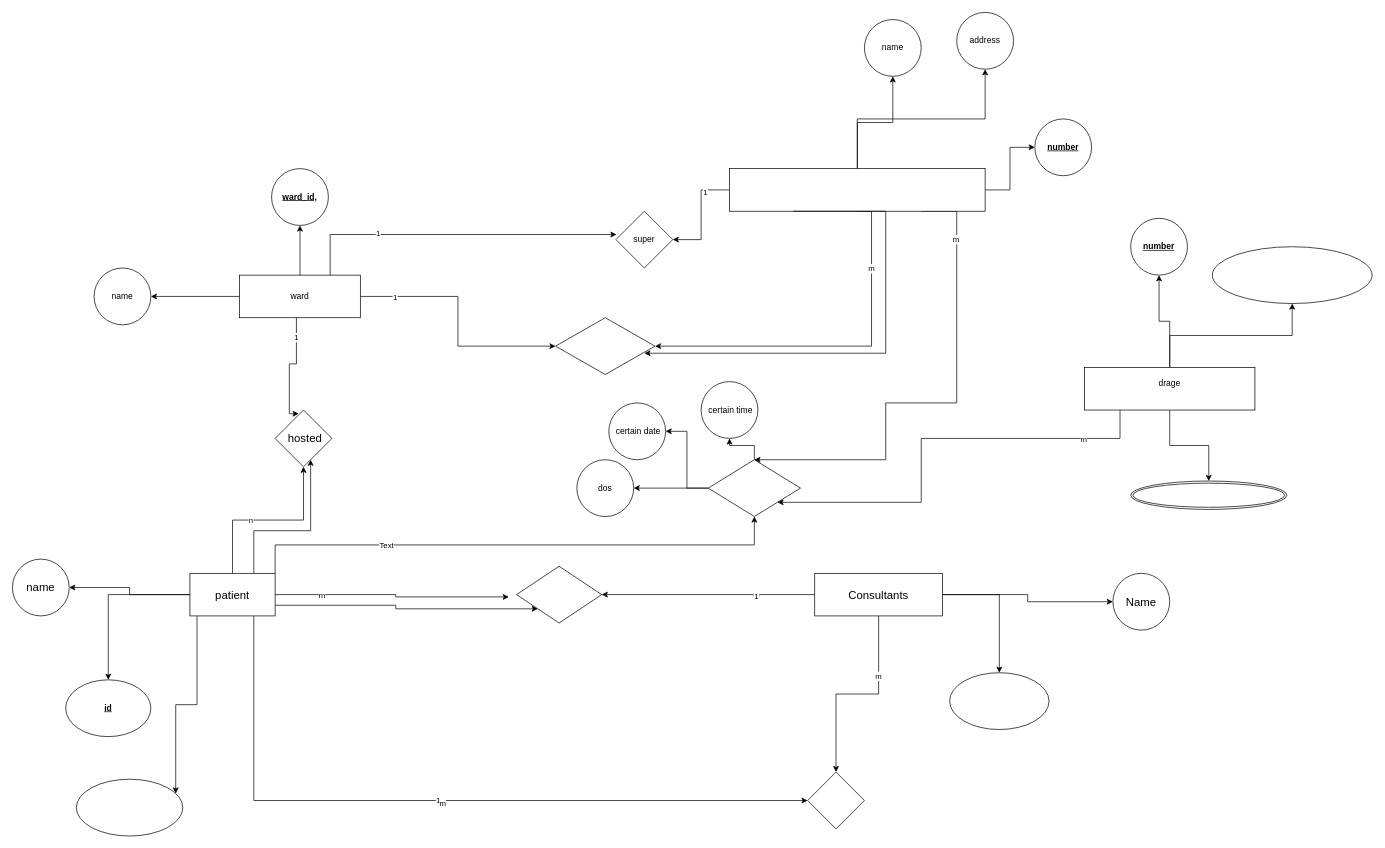
Image size: 1385x848. Some labels were removed from this diagram. The box of each missing label's shape, as (x1, y1, x2, y2) in pixels:
assign: (516, 566, 602, 623)
brand name: (1130, 480, 1287, 509)
Consultants_id: (949, 672, 1049, 730)
Date_Of_Birth: (76, 779, 183, 836)
examine: (807, 771, 864, 829)
give: (708, 459, 801, 517)
nurse: (729, 168, 985, 211)
recommended dosage: (1212, 246, 1372, 304)
serv: (555, 317, 655, 375)
